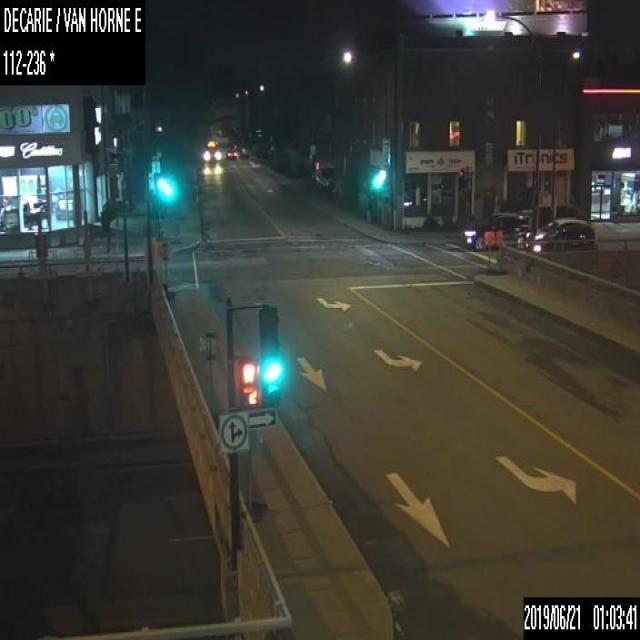construction: (243, 427, 266, 522), (201, 329, 220, 426), (482, 230, 493, 274), (495, 230, 504, 274)
vehicle: (524, 217, 596, 254), (458, 213, 532, 249), (312, 157, 334, 191), (202, 139, 221, 160), (238, 146, 248, 158), (226, 148, 237, 157)
